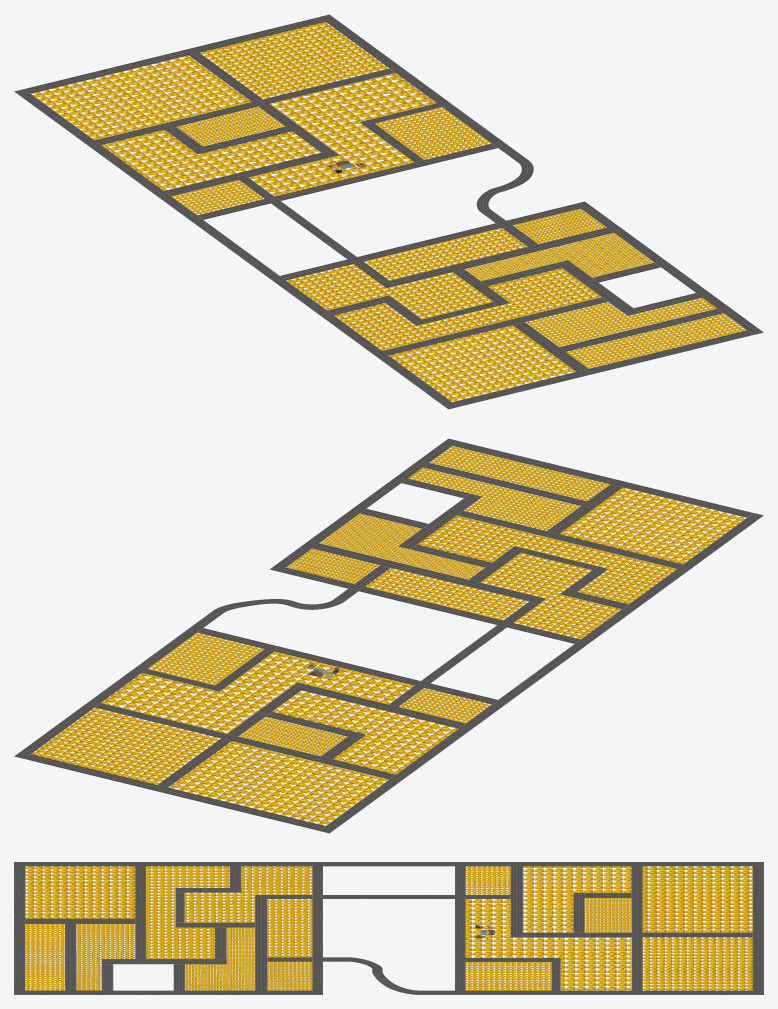
The model's file is R RAMP.fbx.
3 renders of one model, top to bottom at view 1: azimuth 30°, elevation 25°; view 2: azimuth 150°, elevation 25°; view 3: azimuth 270°, elevation 25°, orthographic. The views are drawn at different scales.
Parts seen in each view (by area): view 1: polySurface33, polySurface7, polySurface3, polySurface5, polySurface32, polySurface28, polySurface9, polySurface20, polySurface26, polySurface30, polySurface34, polySurface22 (+4 smaller); view 2: polySurface33, polySurface7, polySurface3, polySurface5, polySurface32, polySurface28, polySurface9, polySurface20, polySurface26, polySurface30, polySurface34, polySurface22 (+4 smaller); view 3: polySurface33, polySurface3, polySurface7, polySurface5, polySurface32, polySurface28, polySurface9, polySurface20, polySurface26, polySurface30, polySurface34, polySurface22 (+4 smaller).
Part boxes in pixels (x1,y1,x2,y2): polySurface33: [14, 14, 763, 409]; polySurface7: [249, 73, 436, 196]; polySurface3: [33, 55, 251, 139]; polySurface5: [199, 22, 387, 98]; polySurface32: [389, 325, 575, 401]; polySurface28: [334, 268, 601, 350]; polySurface9: [101, 129, 320, 190]; polySurface20: [286, 264, 493, 319]; polySurface26: [465, 233, 653, 281]; polySurface30: [526, 297, 716, 346]; polySurface34: [566, 314, 746, 368]; polySurface22: [363, 228, 527, 280]; polySurface33: [14, 438, 763, 833]; polySurface7: [101, 651, 413, 733]; polySurface3: [169, 741, 388, 825]; polySurface5: [31, 708, 219, 784]; polySurface32: [560, 487, 746, 564]; polySurface28: [417, 515, 676, 603]; polySurface9: [272, 690, 458, 774]; polySurface20: [481, 552, 621, 639]; polySurface26: [320, 514, 484, 579]; polySurface30: [408, 467, 579, 530]; polySurface34: [430, 446, 609, 501]; polySurface22: [365, 568, 528, 620]; polySurface33: [14, 862, 763, 994]; polySurface3: [642, 866, 752, 932]; polySurface7: [465, 899, 631, 990]; polySurface5: [642, 937, 752, 990]; polySurface32: [25, 866, 135, 918]; polySurface28: [146, 866, 229, 958]; polySurface9: [523, 866, 631, 932]; polySurface20: [184, 866, 312, 922]; polySurface26: [185, 927, 254, 990]; polySurface30: [76, 924, 135, 990]; polySurface34: [25, 924, 64, 990]; polySurface22: [267, 899, 312, 957].
Size of the model in its own units: 31227 by 492 by 74454.
